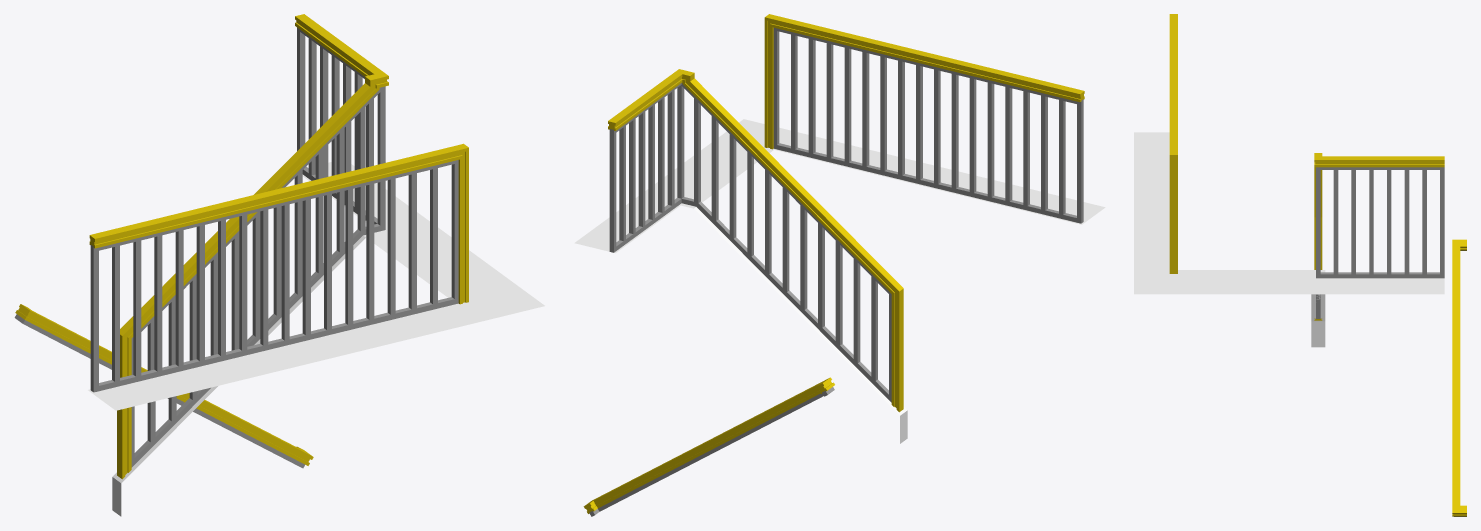
Rendered from Railing.glb.
3 renders of one model, left to right at view 1: azimuth 30°, elevation 25°; view 2: azimuth 150°, elevation 25°; view 3: azimuth 270°, elevation 25°, orthographic. The views are drawn at different scales.
Visible parts, largest first — view 1: TubeVertical (×24), Floor part, TubeStairVertical (×10), HandRailLedgeHorizontal, TubeLedgeHorizontal (×2), HandRailStairs, HandRailStairsLower, HandRailLedgeVertical, StairsHorizontalLower, HandRailTop, HandRailLedgeVerticalLanding, Stairs part (+3 smaller); view 2: TubeVertical (×26), Floor part, TubeStairVertical (×10), HandRailLedgeHorizontal, HandRailStairs, TubeLedgeHorizontal (×2), HandRailStairsLower, StairsHorizontalLower, HandRailLedgeVerticalLanding, Stairs part, HandRailLedgeVertical, HandRailTop (+3 smaller); view 3: Floor part, TubeVertical (×8), HandRailStairsLower, HandRailTop, HandRailLedgeHorizontal, TopHorizontal (×2), HandRailLedgeVertical, Stairs part.
Boxes of the visible parts, x1,y1,x2,y2 form: TubeVertical (×24): [90, 30, 458, 386]; Floor part: [88, 162, 544, 410]; TubeStairVertical (×10): [147, 128, 344, 441]; HandRailLedgeHorizontal: [89, 143, 468, 248]; TubeLedgeHorizontal (×2): [90, 160, 458, 392]; HandRailStairs: [120, 83, 379, 338]; HandRailStairsLower: [25, 310, 313, 465]; HandRailLedgeVertical: [458, 148, 468, 304]; StairsHorizontalLower: [131, 229, 362, 467]; HandRailTop: [295, 14, 388, 82]; HandRailLedgeVerticalLanding: [117, 334, 131, 479]; Stairs part: [112, 232, 380, 516]; TubeVertical (×26): [609, 30, 1083, 248]; Floor part: [574, 119, 1105, 253]; TubeStairVertical (×10): [711, 116, 877, 380]; HandRailLedgeHorizontal: [765, 14, 1084, 102]; HandRailStairs: [683, 78, 903, 293]; TubeLedgeHorizontal (×2): [773, 27, 1083, 223]; HandRailStairsLower: [592, 378, 828, 508]; StairsHorizontalLower: [696, 201, 891, 402]; HandRailLedgeVerticalLanding: [891, 289, 903, 412]; Stairs part: [681, 203, 907, 443]; HandRailLedgeVertical: [764, 17, 773, 149]; HandRailTop: [608, 69, 682, 130]; Floor part: [1134, 132, 1444, 294]; TubeVertical (×8): [1316, 170, 1444, 274]; HandRailStairsLower: [1452, 240, 1460, 514]; HandRailTop: [1314, 156, 1444, 167]; HandRailLedgeHorizontal: [1169, 14, 1177, 154]; TopHorizontal (×2): [1316, 167, 1444, 278]; HandRailLedgeVertical: [1169, 155, 1177, 273]; Stairs part: [1311, 270, 1325, 347].
Bounding box in the file's own units: 2.66 × 2.72 × 2.31.
